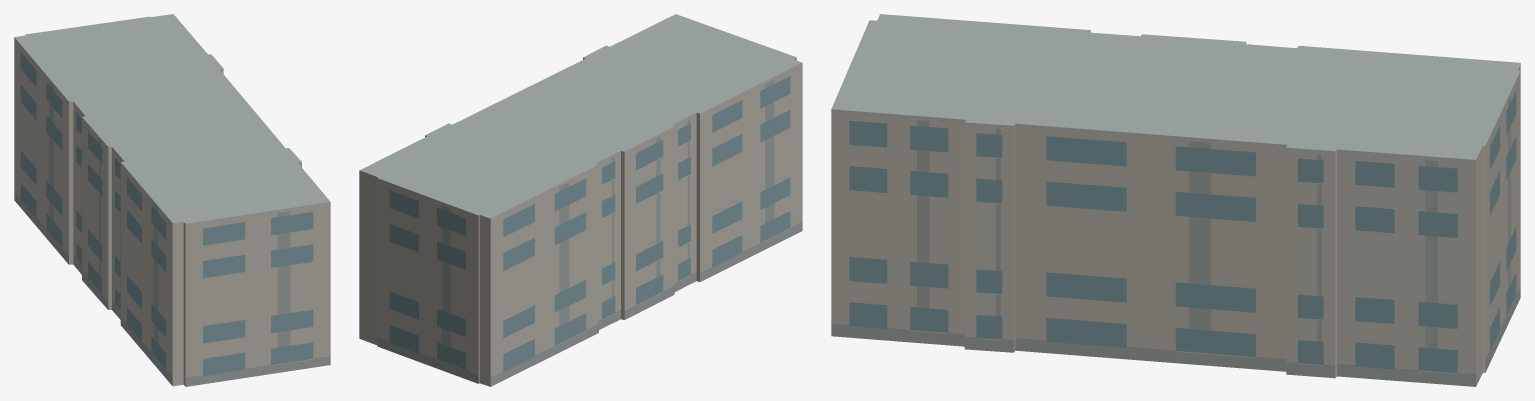
File: survey-upis-32674708.glb
The picture shows the model from 3 angles, left to right: view 1: azimuth 30°, elevation 25°; view 2: azimuth 150°, elevation 25°; view 3: azimuth 270°, elevation 25°; orthographic projection. The views are drawn at different scales.
Parts seen in each view (by area): view 1: survey-upis-32674708.tmp; view 2: survey-upis-32674708.tmp; view 3: survey-upis-32674708.tmp.
Part boxes in pixels (box(x1,y1,x2,y2)): survey-upis-32674708.tmp: box(14, 14, 330, 386); survey-upis-32674708.tmp: box(359, 14, 802, 386); survey-upis-32674708.tmp: box(831, 14, 1520, 386).
Size of the model in its own units: 18.63 by 13.5 by 37.18.
